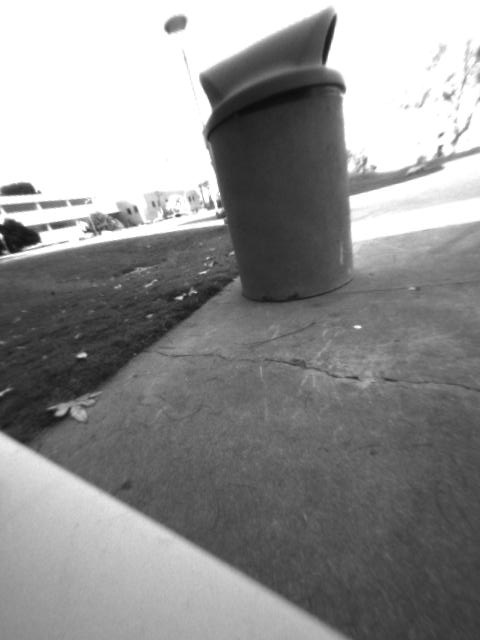trashcan: (184, 3, 368, 301)
